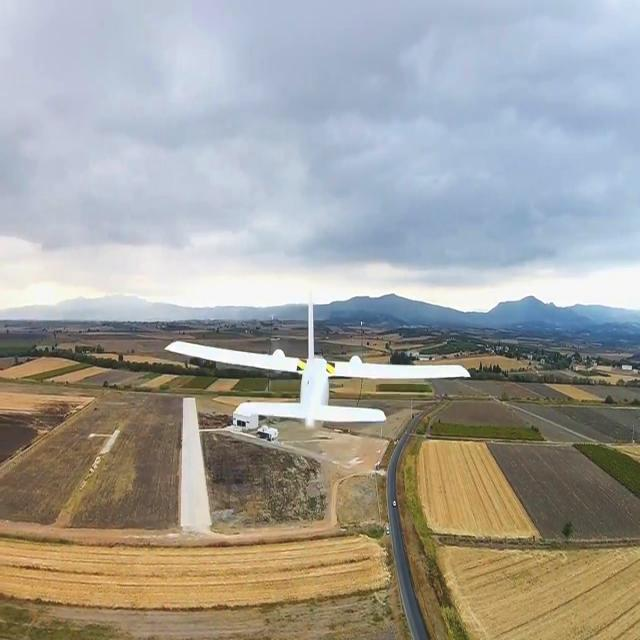iha: (121, 267, 492, 457)
